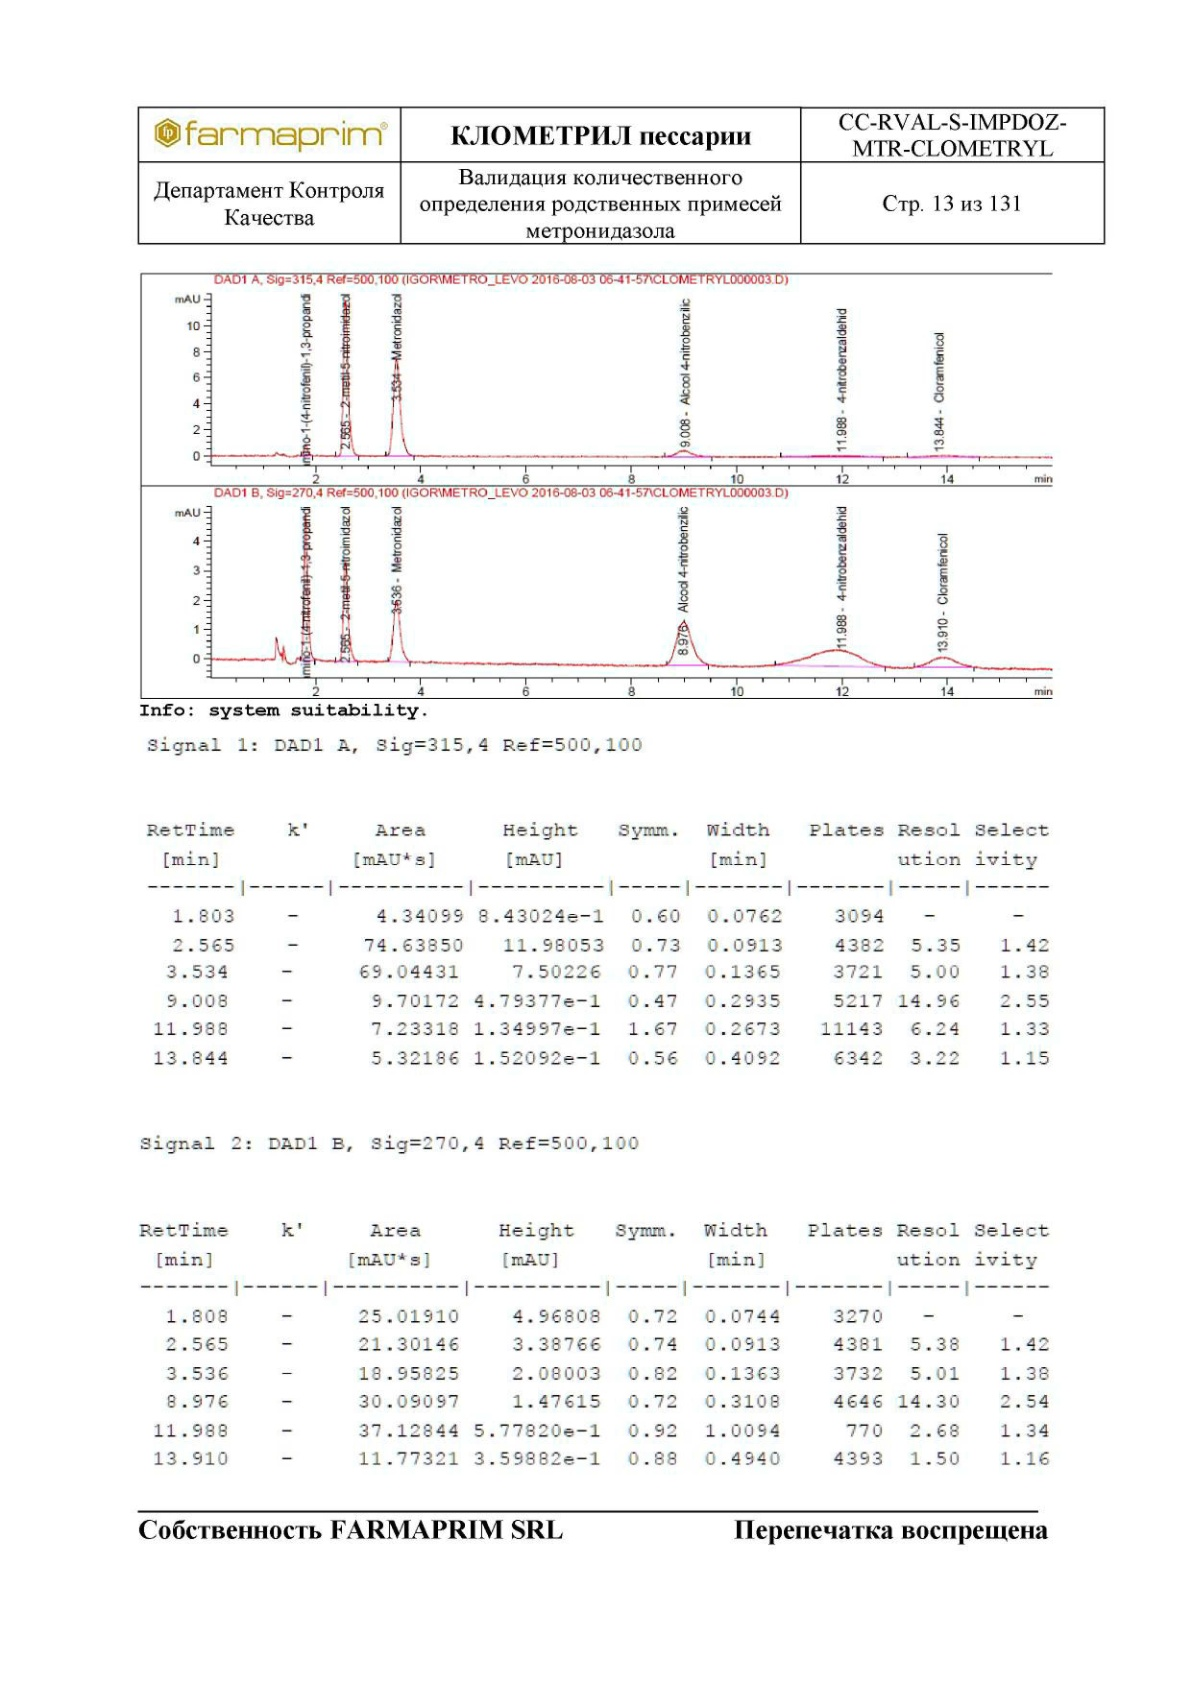full_lined: (135, 103, 1107, 248)
partial_lined: (139, 816, 1057, 1078), (133, 1219, 1059, 1471)
